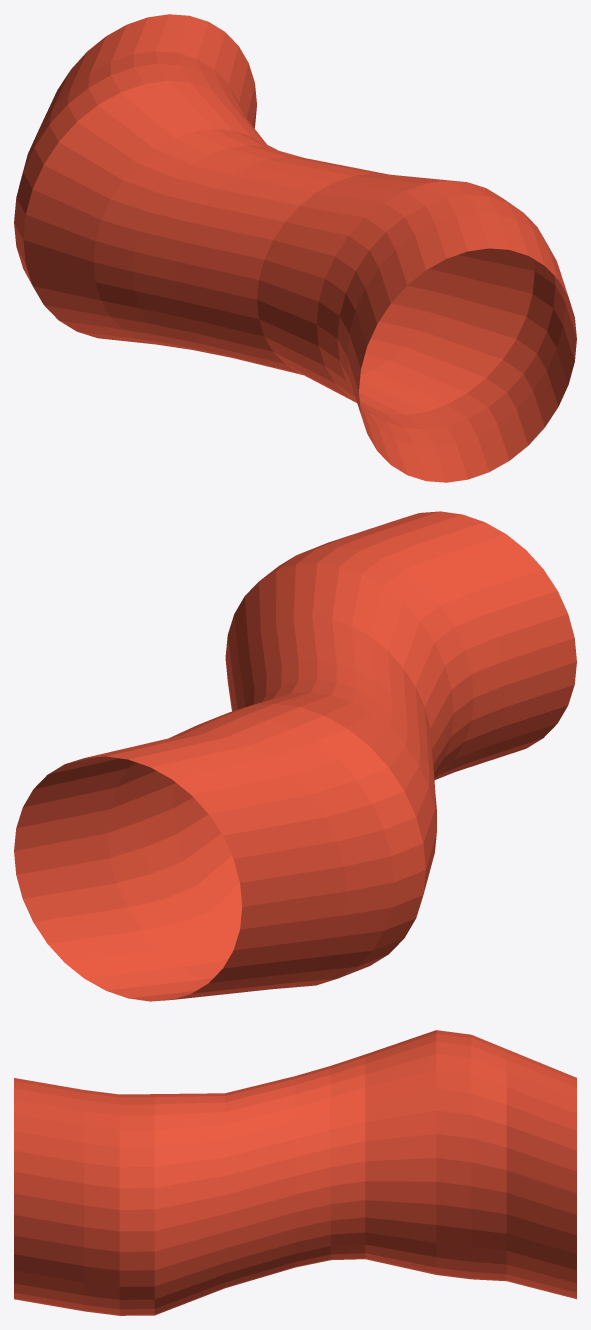
File: Area3.Tunnel2.placeholder.fbx
3 renders of one model, top to bottom at view 1: azimuth 30°, elevation 25°; view 2: azimuth 150°, elevation 25°; view 3: azimuth 270°, elevation 25°, orthographic. The views are drawn at different scales.
Visible parts, largest first — view 1: Cylinder.001; view 2: Cylinder.001; view 3: Cylinder.001.
Part boxes in pixels (left/top/right/bottom): Cylinder.001: left=14, top=14, right=576, bottom=482; Cylinder.001: left=14, top=511, right=576, bottom=1001; Cylinder.001: left=14, top=1030, right=576, bottom=1315.
Bounding box in the file's own units: 127 × 87.27 × 200.
